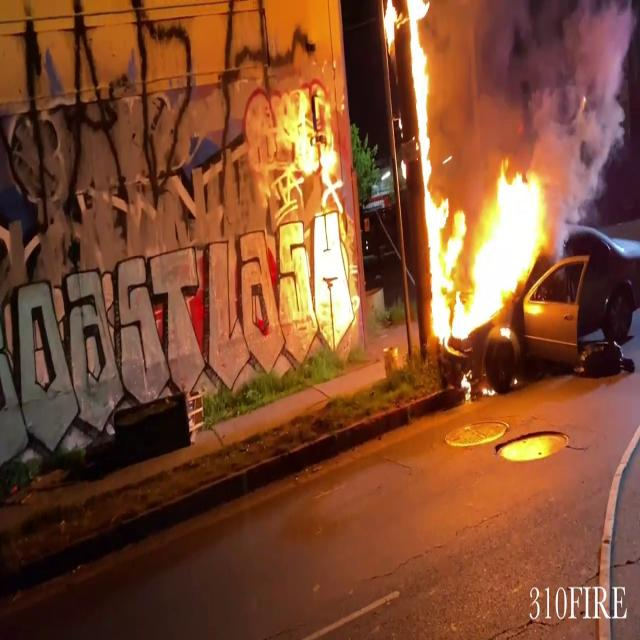Fire: (424, 155, 556, 345), (383, 0, 441, 170)
Smoke: (429, 0, 639, 190)
